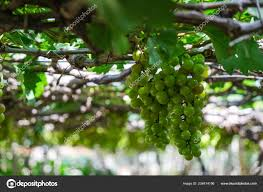grapes: (132, 64, 214, 160)
